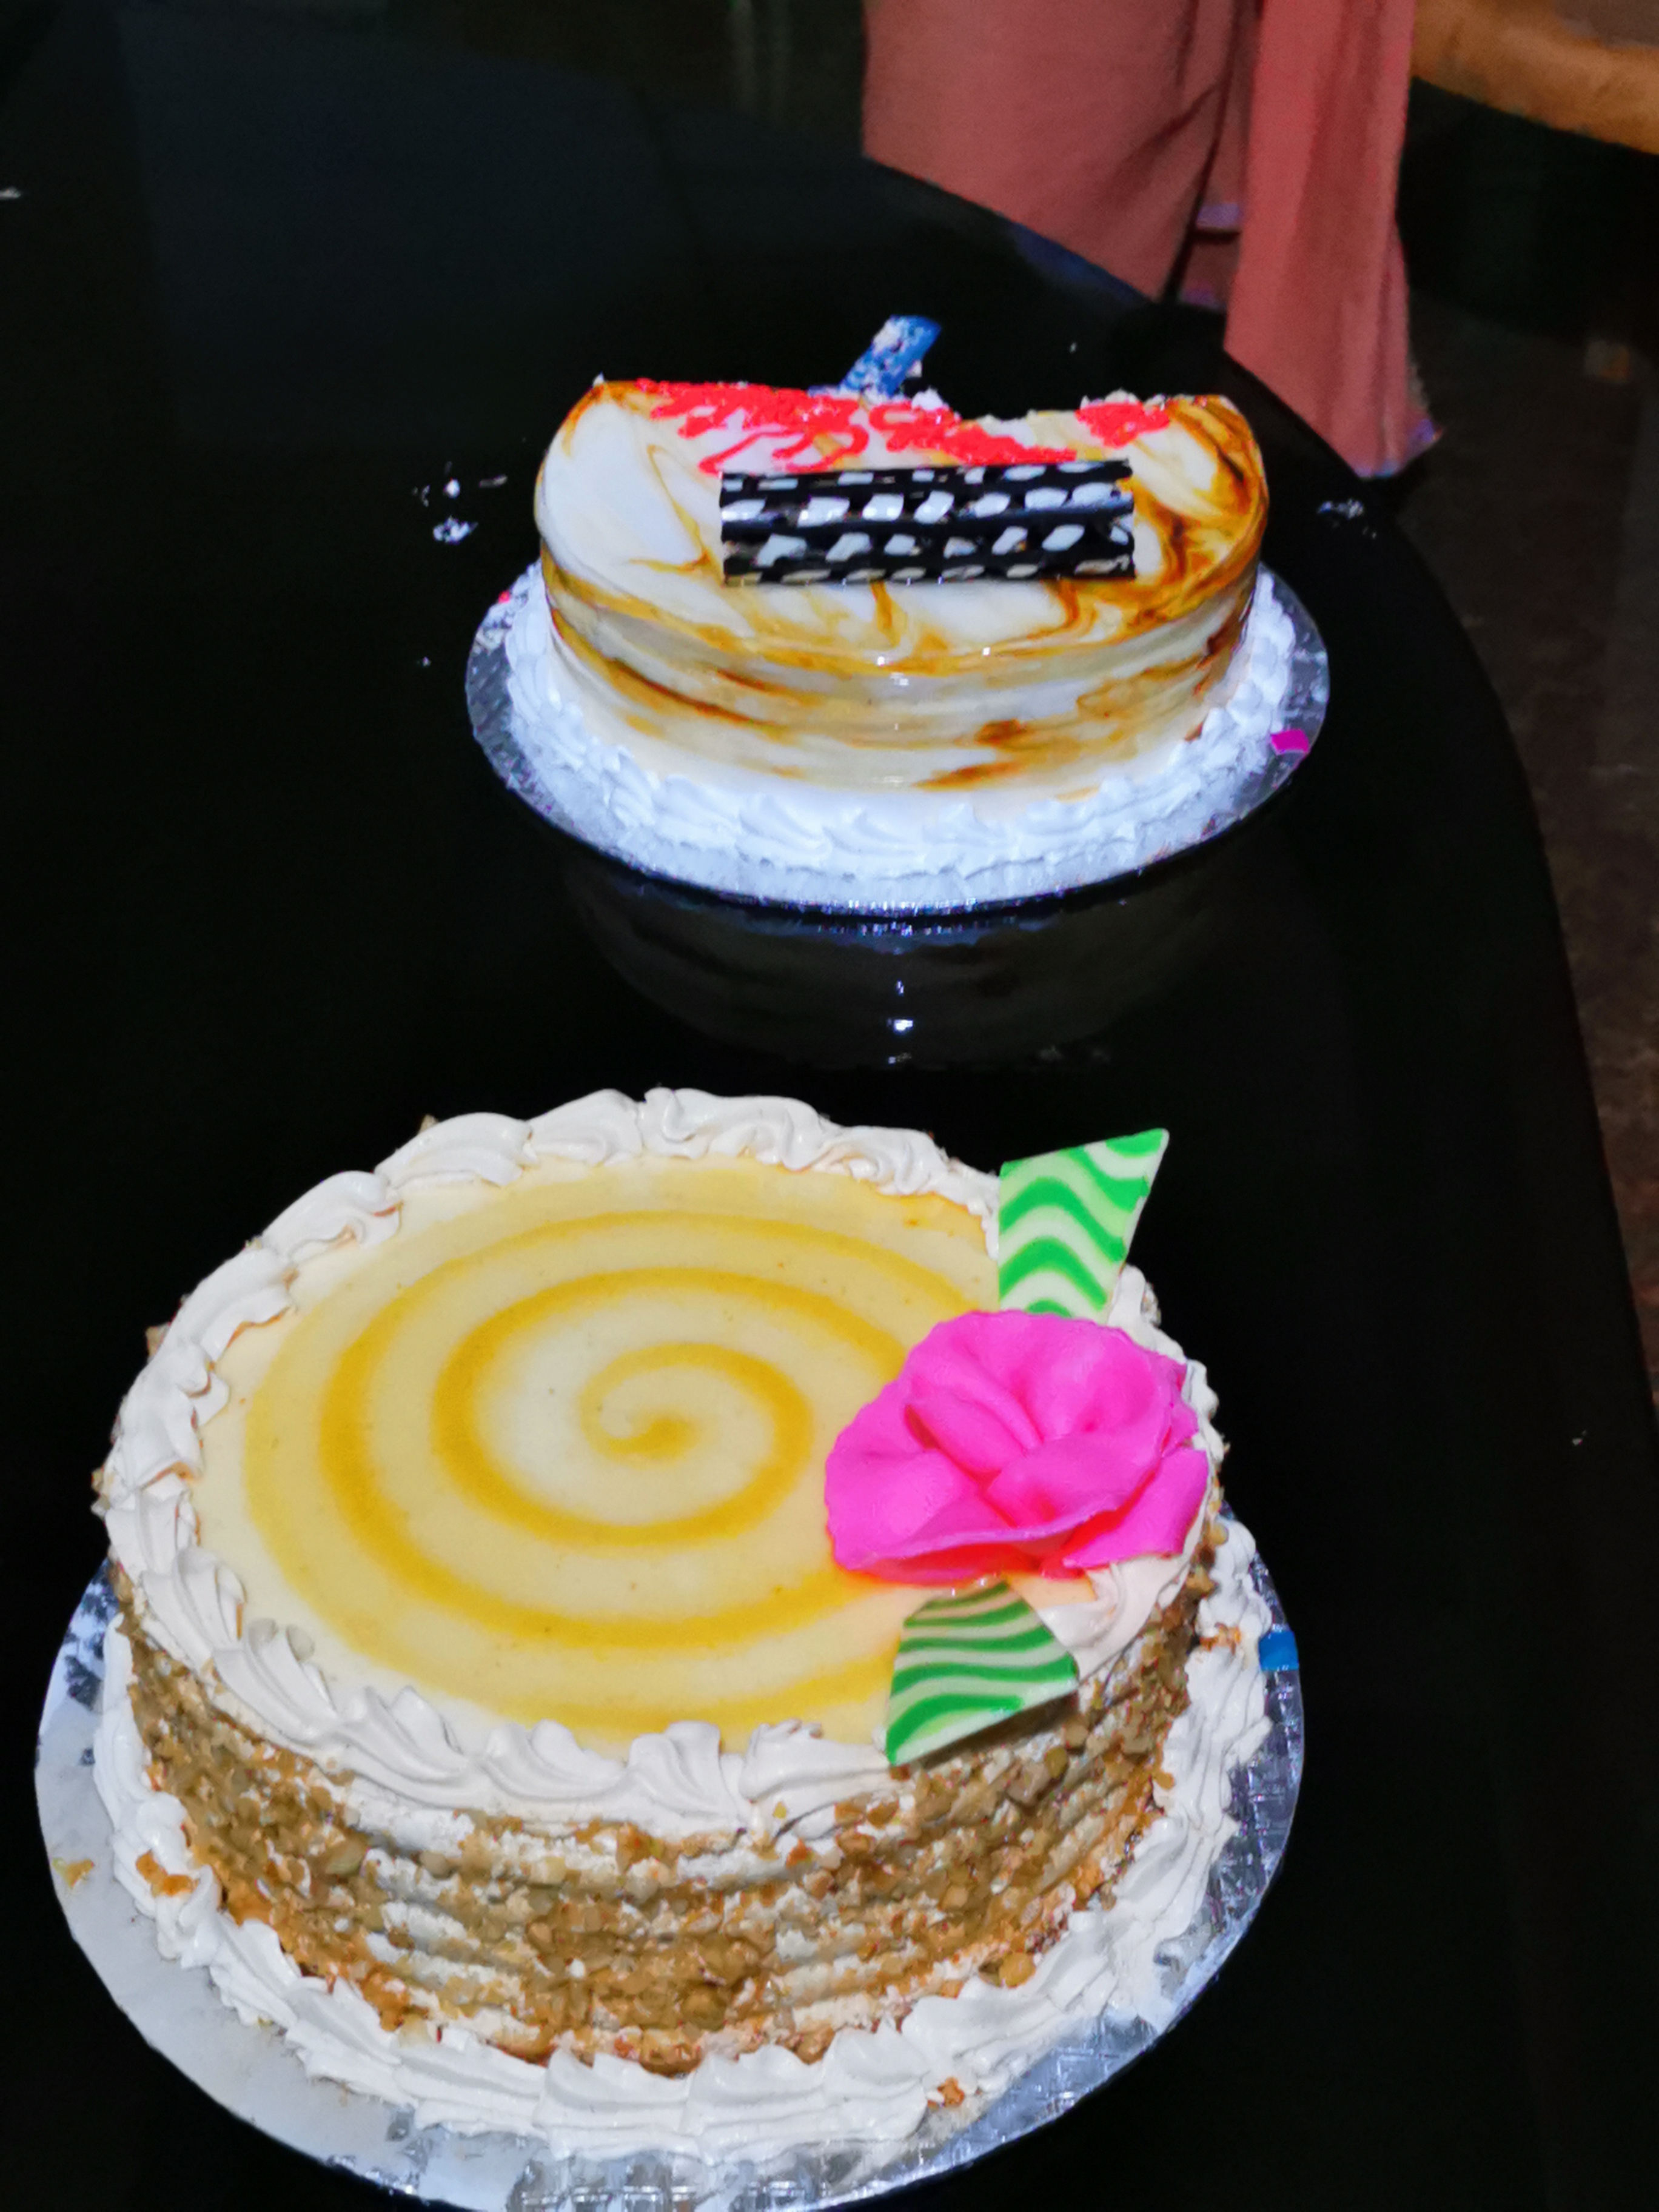food: (78, 1072, 1287, 2173), (500, 281, 1301, 894)
